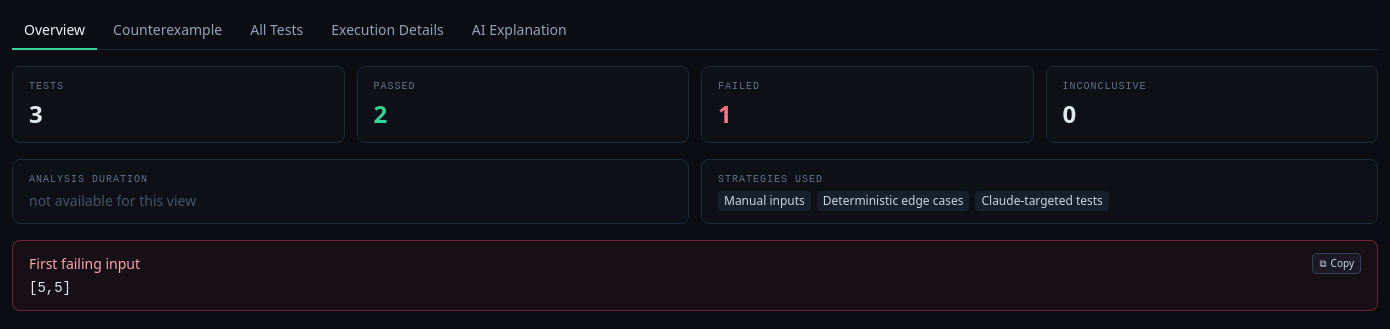
Test case: ResultsView › switches tabs on click
Step 1. Click the tab "All Tests" → point(277, 31), box x1=238 y1=12 x2=315 y2=50
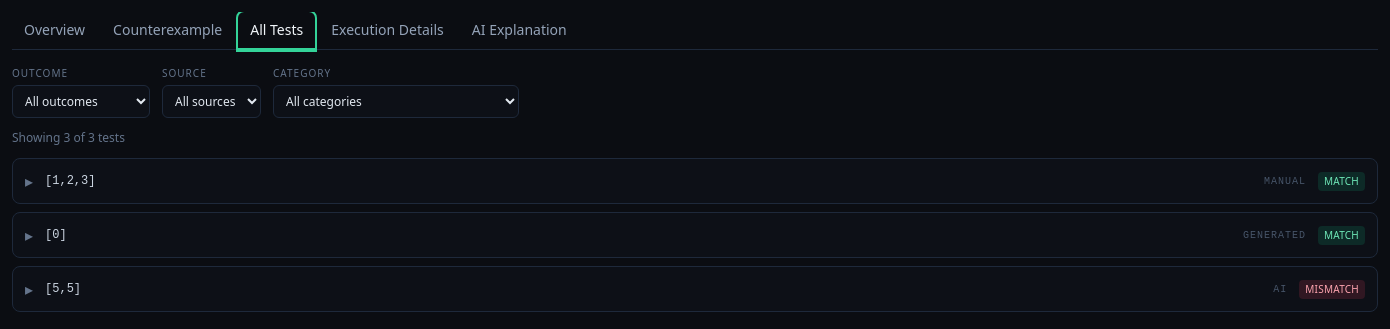
Check: the text "Showing 3 of 3 tests" is shown, box x1=12 y1=129 x2=125 y2=146
